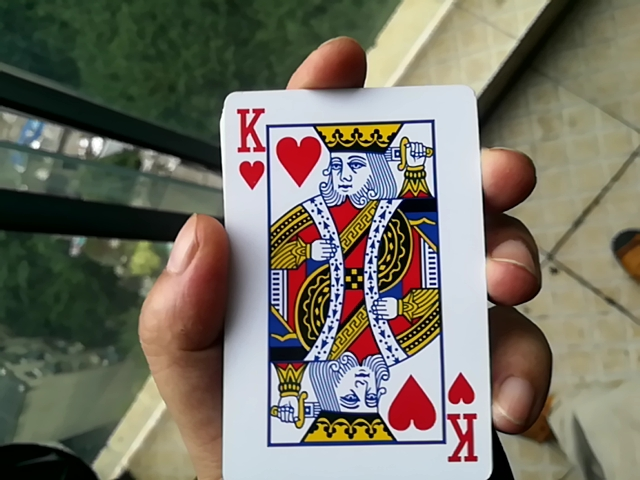hx k: (208, 71, 486, 480)
